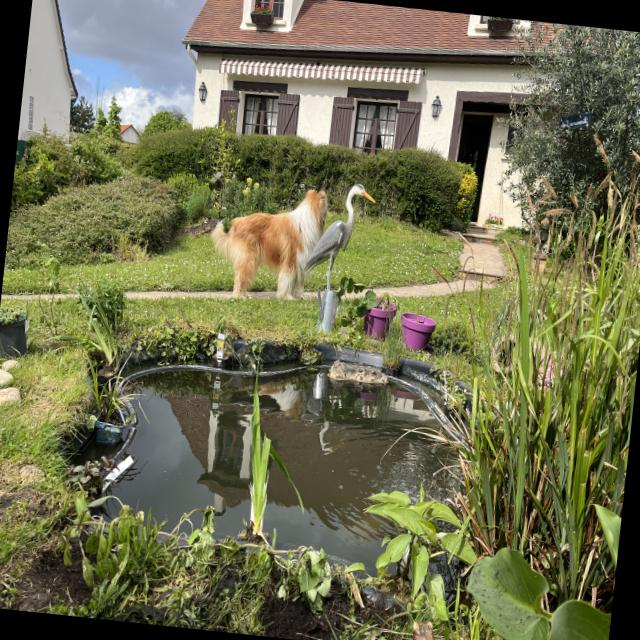Dog: (200, 174, 334, 314)
Heron: (300, 164, 383, 310)
